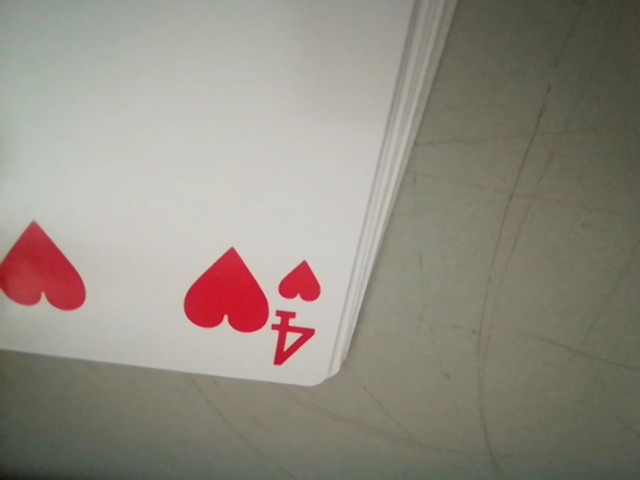hx 4: (264, 248, 326, 373)
